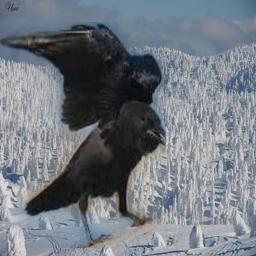Crow: (0, 22, 166, 248)
